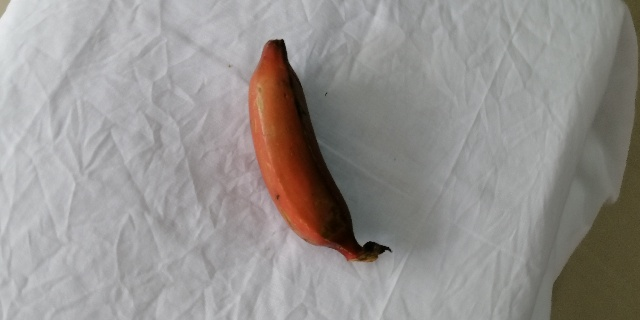banana_red: (245, 38, 400, 263)
